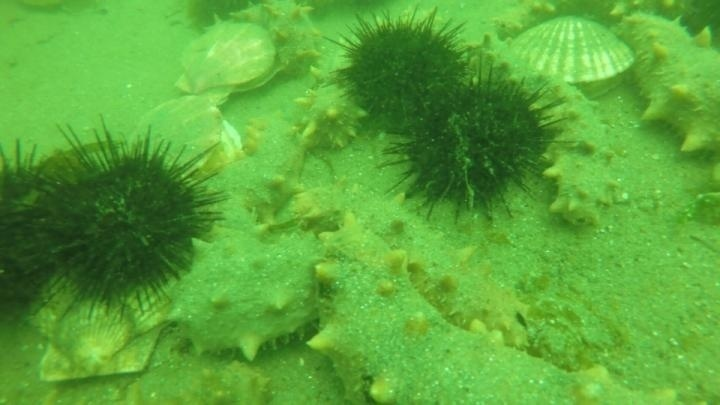echinus: (24, 118, 226, 323), (381, 64, 569, 223), (332, 7, 474, 137), (1, 139, 86, 331), (550, 1, 628, 33)
holothurian: (326, 218, 674, 405), (160, 123, 391, 381), (352, 191, 540, 354), (163, 219, 333, 365), (209, 104, 336, 240), (618, 9, 720, 159), (536, 76, 622, 230), (272, 4, 365, 141), (295, 42, 370, 154), (230, 1, 326, 83), (612, 1, 720, 44), (490, 1, 562, 42)
scallop: (26, 118, 225, 322), (23, 269, 177, 388), (497, 14, 640, 100), (125, 92, 237, 183), (173, 20, 283, 103), (123, 348, 273, 405)
